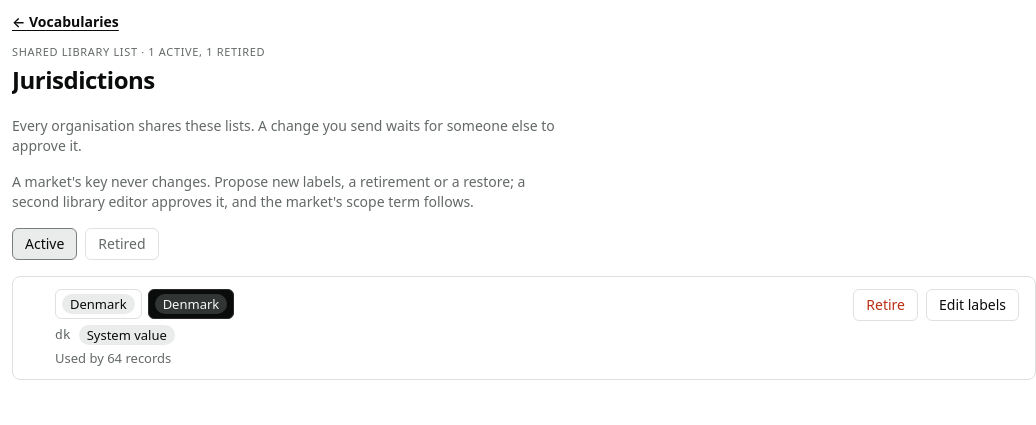
Test case: the jurisdictions on the console › proposes a restore of a retired market, and says it is waiting for review
What coordinates should you click on to do the following:
click the button "Retired"
I would click on:
 (122, 244)
Its box is [85,228,159,260].
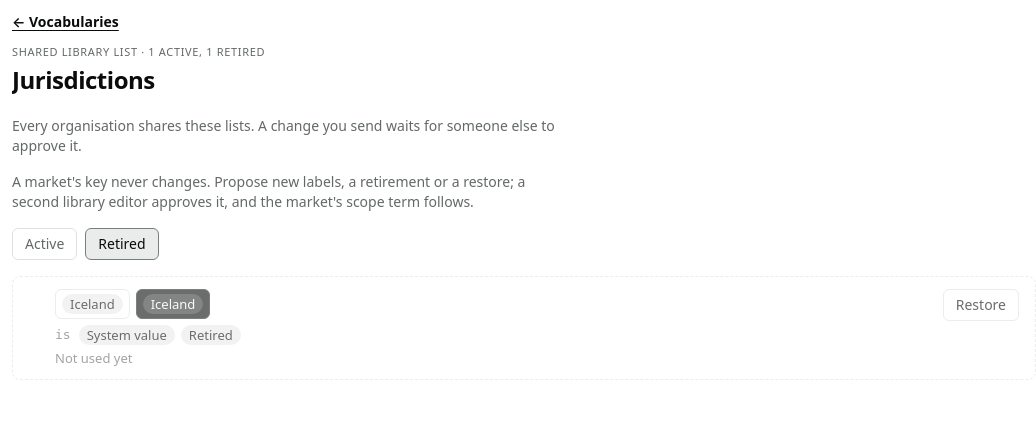
What coordinates should you click on to do the following:
click the button "Restore"
I would click on:
 (981, 305)
Its box is [943,289,1019,321].
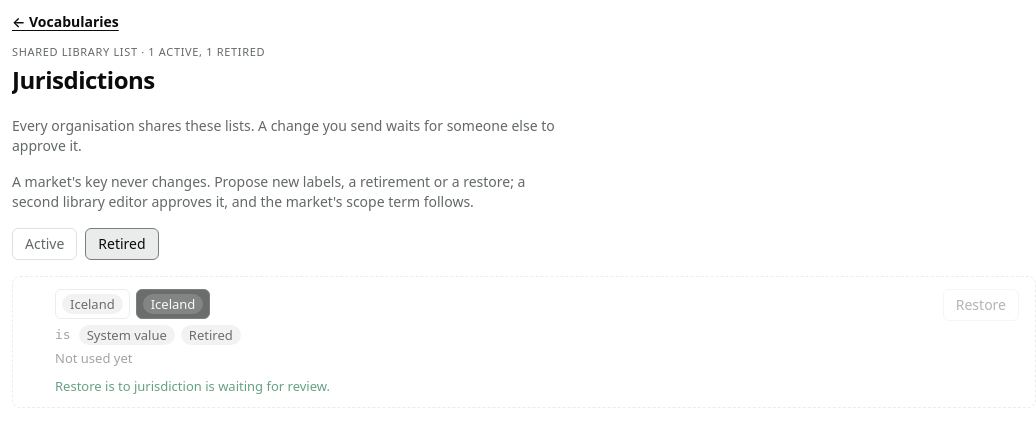
Expected: the text "Restore is to jurisdiction is waiting for review." is shown, [55,377,330,395]
